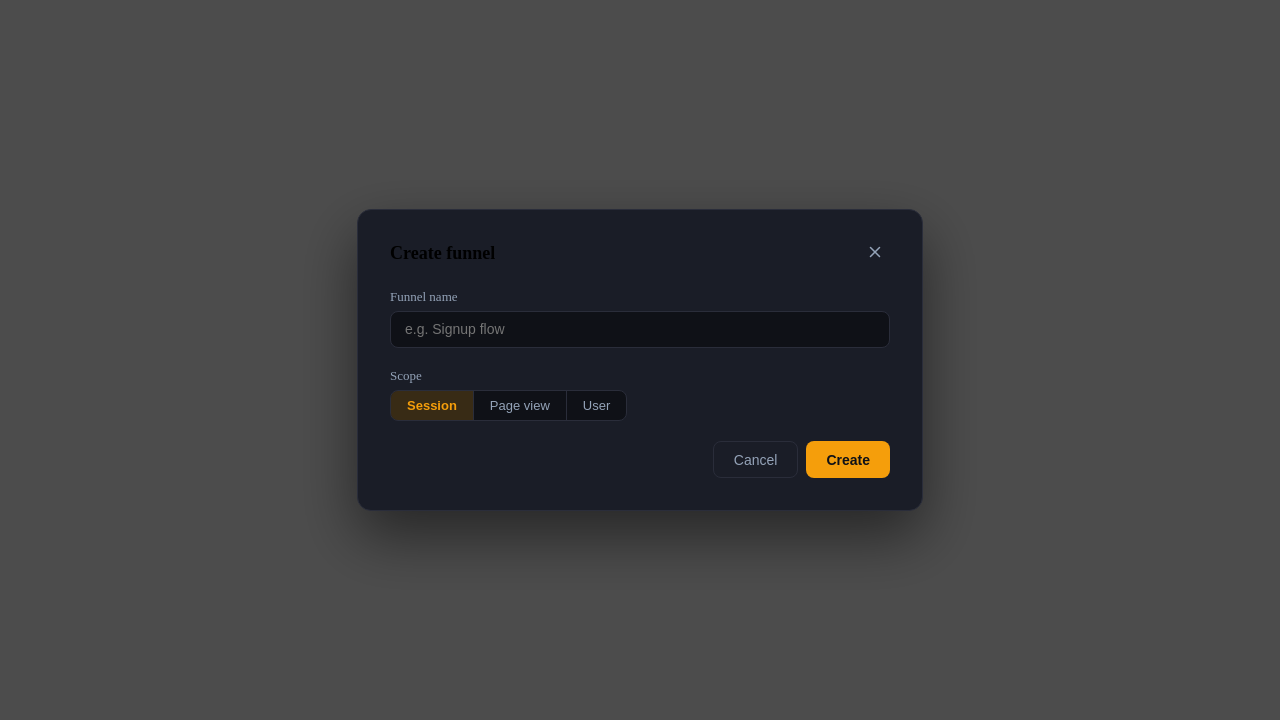
Test case: CreateFunnelModal › shows an error when a step is missing its event name
The width and height of the screenshot is (1280, 720).
In the field with placeholder "e.g. Signup flow": x=640, y=329 [390,311,890,348], type "My funnel"
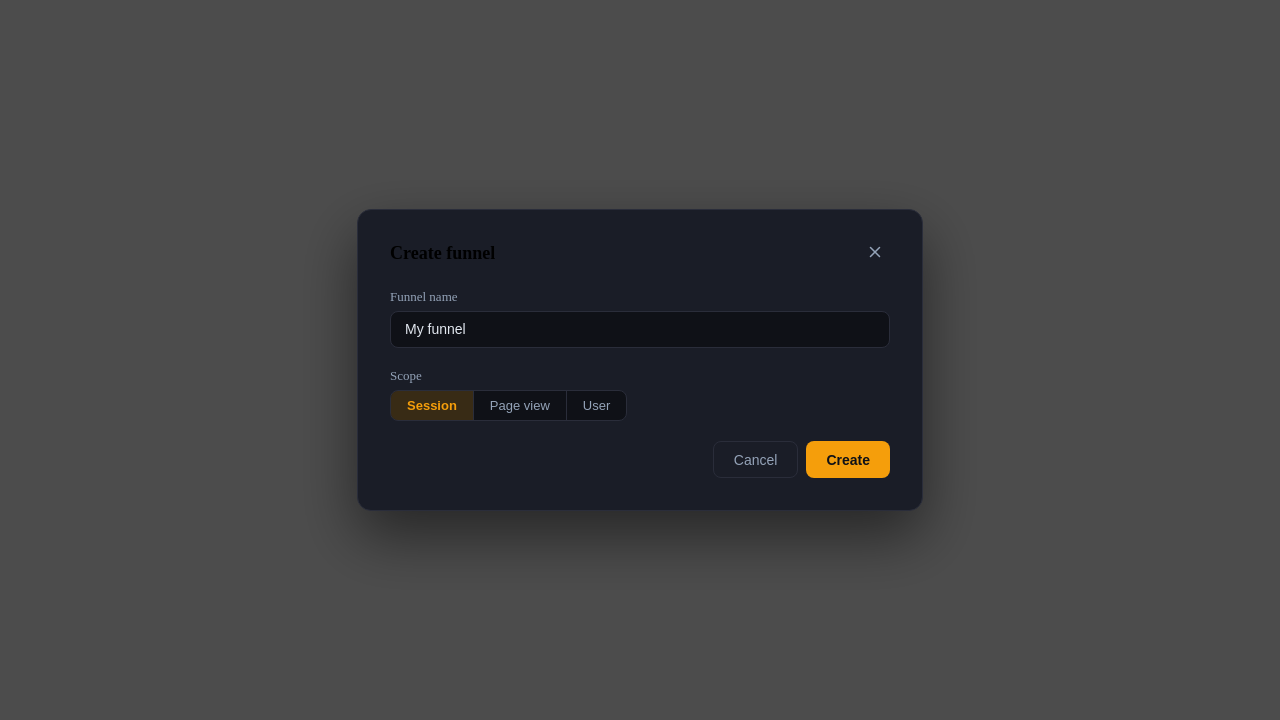
Click the button "Create": x=848, y=460 [806,441,890,478]
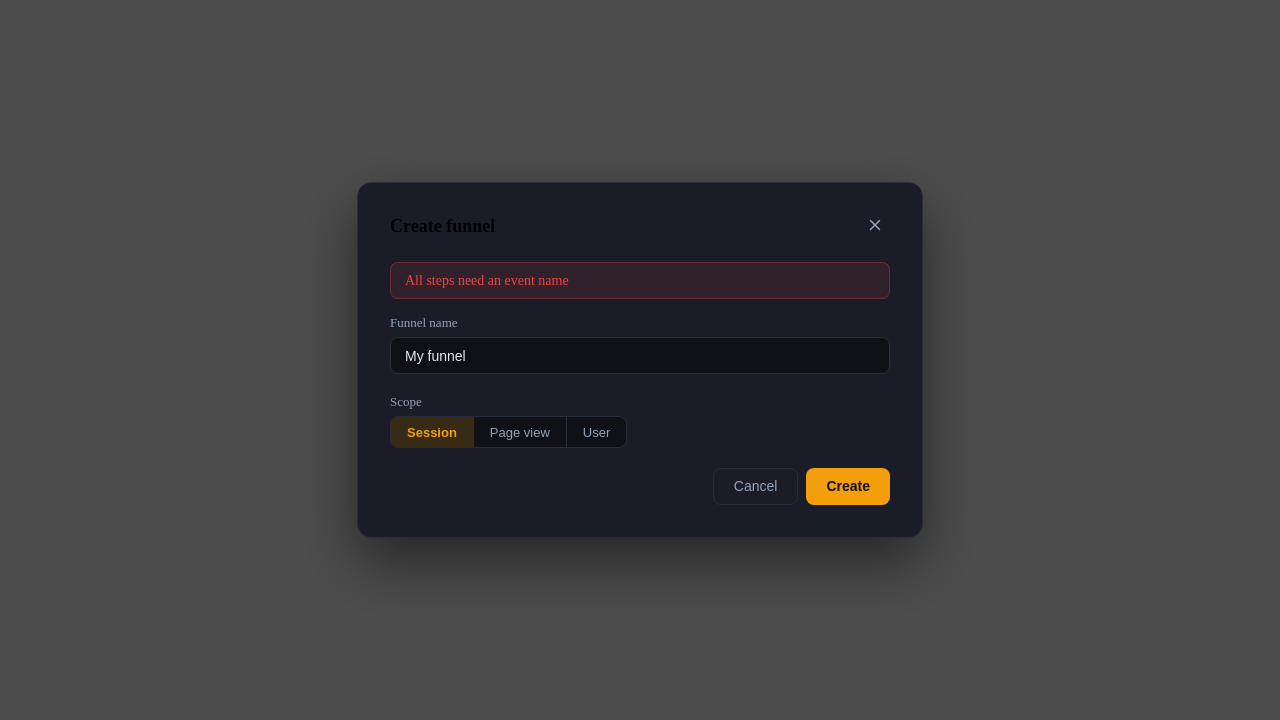
Result: the text "All steps need an event name" is shown at [390,262,890,299]
